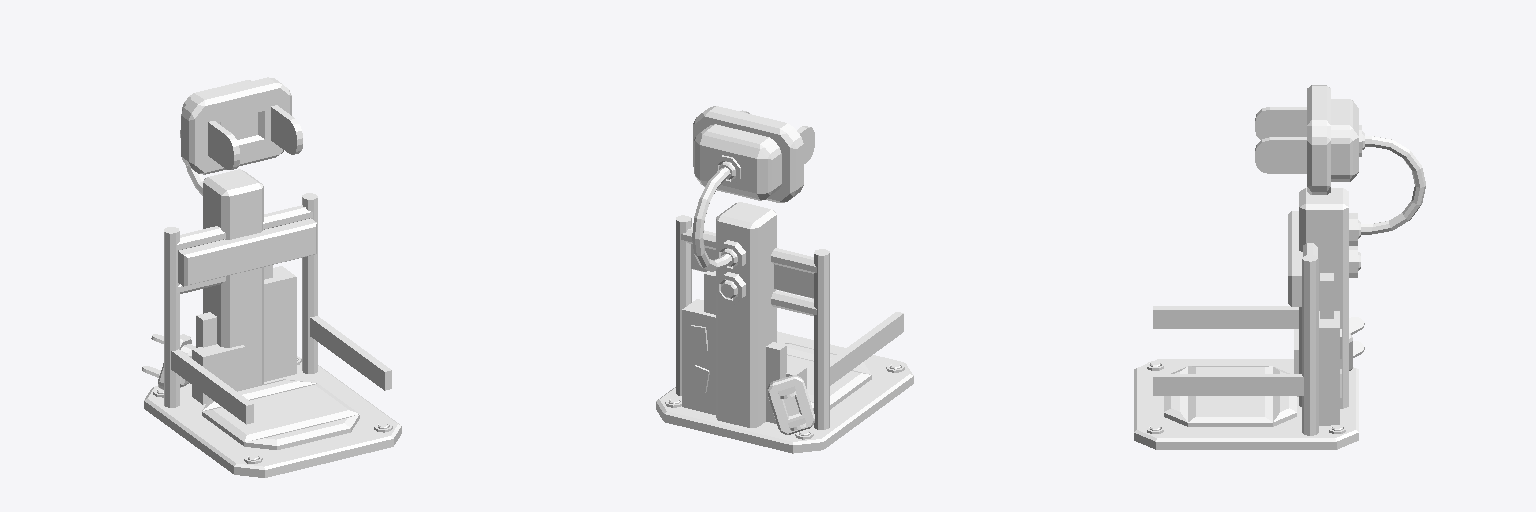
File: Robot_ChargingStation.obj
3 views of the same model, side by side, from view 1: azimuth 30°, elevation 25°; view 2: azimuth 150°, elevation 25°; view 3: azimuth 270°, elevation 25° (orthographic).
Visible parts, largest first — view 1: Robot_ChargingStation; view 2: Robot_ChargingStation; view 3: Robot_ChargingStation.
Part boxes in pixels (bbox=[...]): Robot_ChargingStation: bbox=[142, 77, 401, 477]; Robot_ChargingStation: bbox=[656, 106, 913, 453]; Robot_ChargingStation: bbox=[1134, 85, 1425, 449].
Size of the model in its own units: 1.21 by 2.11 by 1.83.